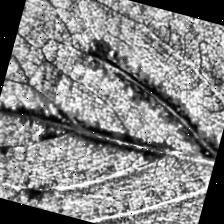Angular Leafspot: (0, 16, 224, 224)
